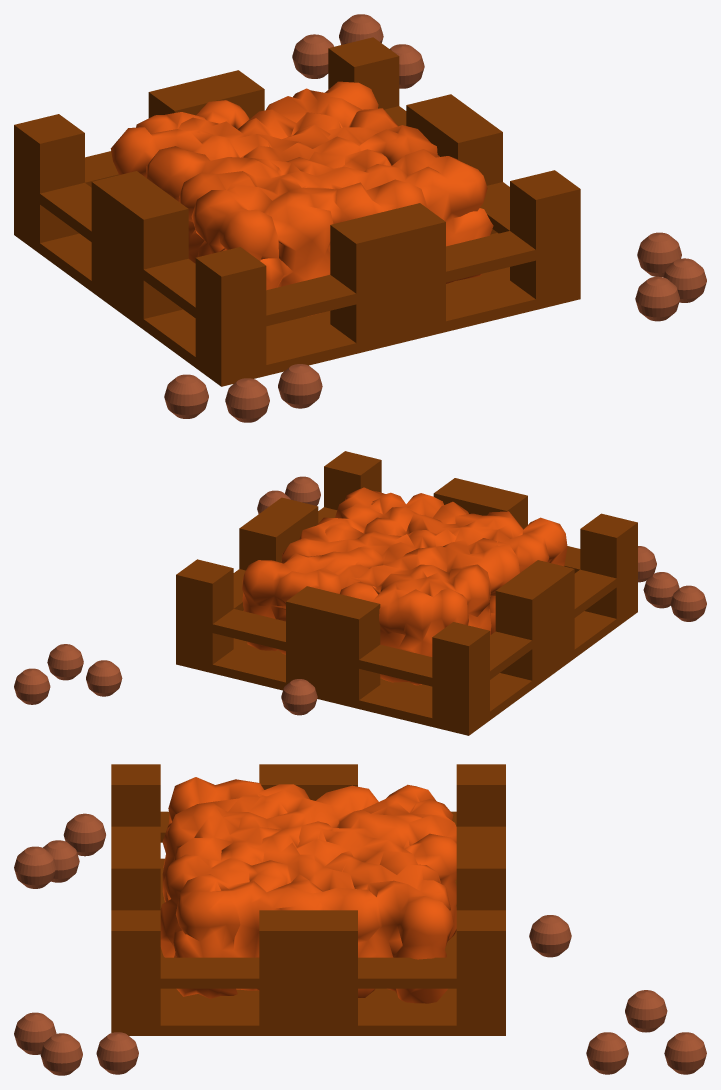
Rendered from CestaDeLaranja.fbx.
The picture shows the model from 3 angles, top to bottom: view 1: azimuth 30°, elevation 25°; view 2: azimuth 150°, elevation 25°; view 3: azimuth 270°, elevation 25°; orthographic projection. The views are drawn at different scales.
Parts seen in each view (by area): view 1: Cube, Sphere; view 2: Cube, Sphere; view 3: Sphere, Cube.
Boxes of the visible parts, left/top/right/bottom form: Cube: left=14, top=37, right=580, bottom=386; Sphere: left=110, top=14, right=706, bottom=422; Cube: left=176, top=451, right=637, bottom=735; Sphere: left=14, top=476, right=706, bottom=715; Sphere: left=14, top=777, right=706, bottom=1075; Cube: left=111, top=764, right=505, bottom=1035.
Size of the model in its own units: 1063 by 274 by 1267.
